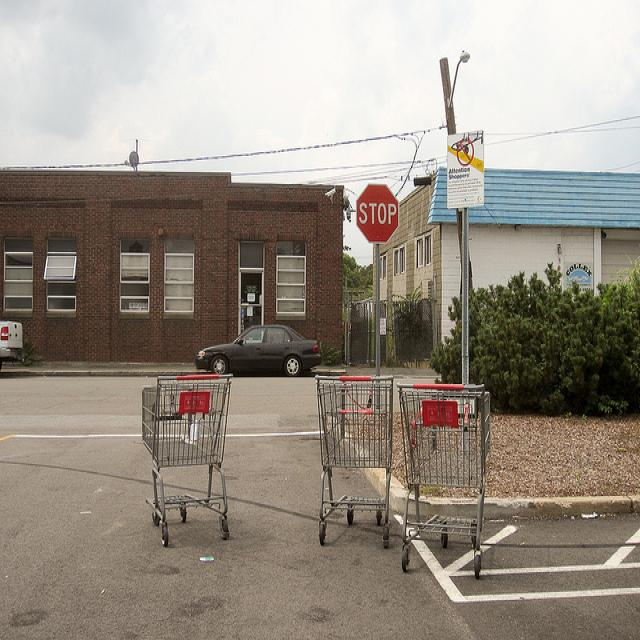Vehicle: (194, 324, 322, 376), (0, 319, 25, 372), (1, 319, 23, 372)
